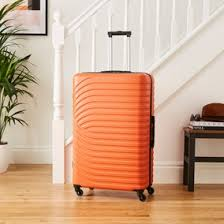suitcase: (71, 30, 160, 203)
